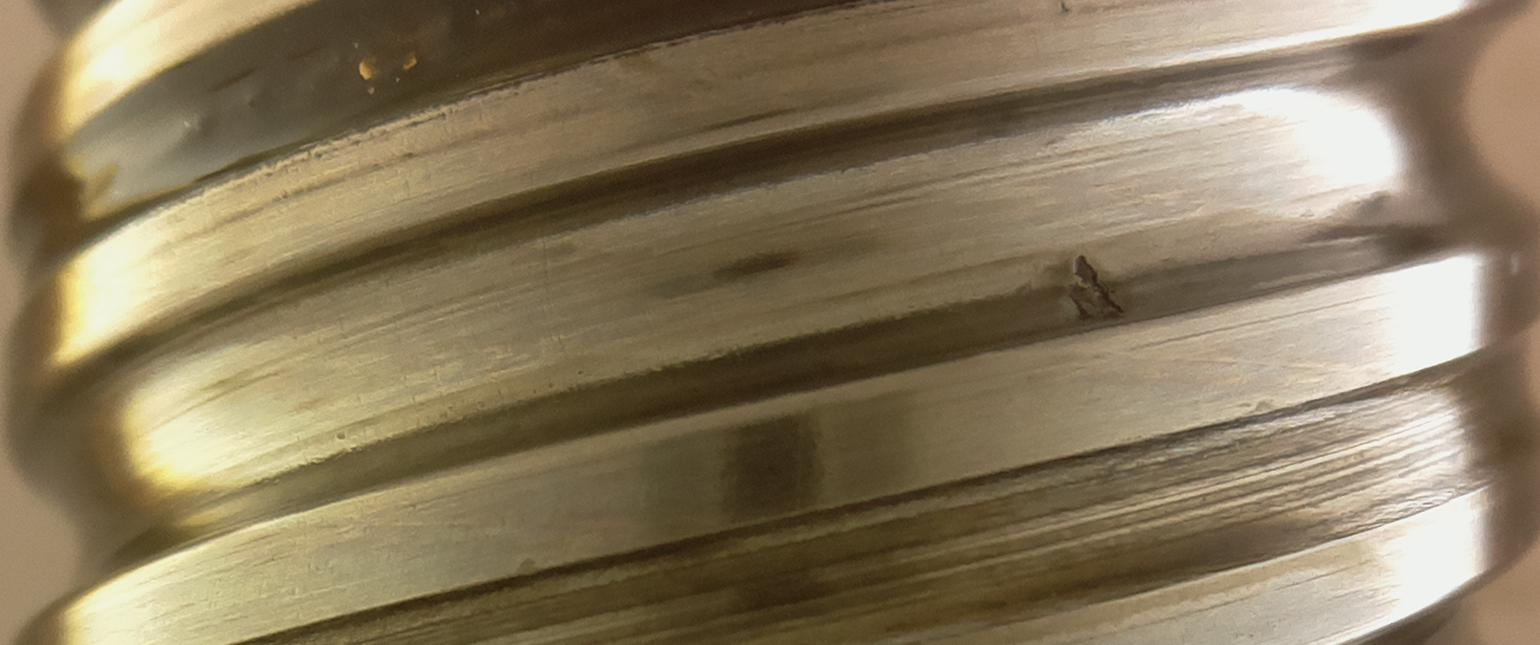pitting: (1069, 256, 1123, 320)
